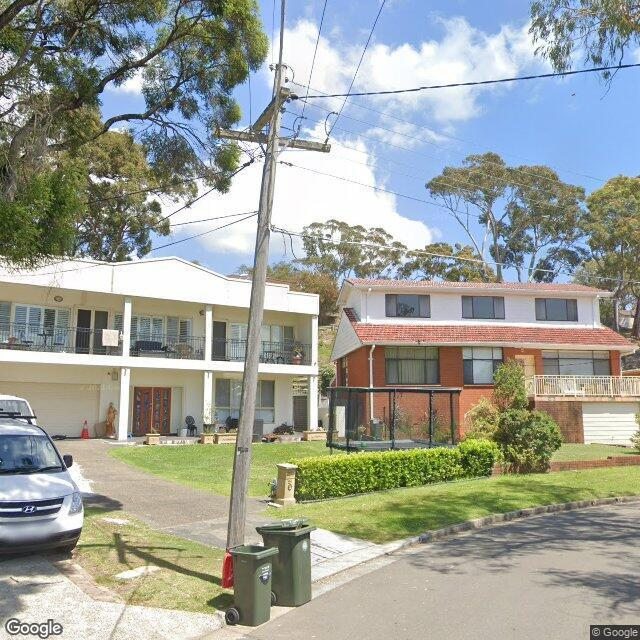crossarm: (212, 128, 331, 154), (246, 85, 291, 138)
timber-pole: (226, 65, 290, 560)
